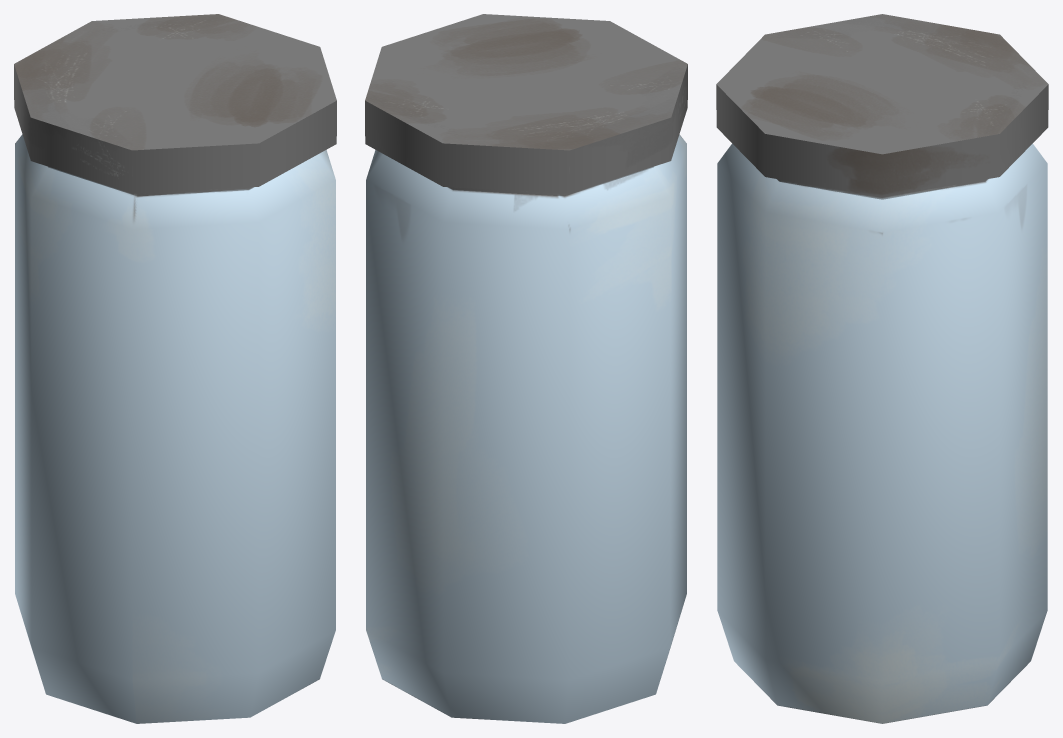
Rendered from frasco_v_grande_.fbx.
3 views of the same model, side by side, from view 1: azimuth 30°, elevation 25°; view 2: azimuth 150°, elevation 25°; view 3: azimuth 270°, elevation 25° (orthographic).
Visible parts, largest first — view 1: Frasco_Vidrio_largo_term; view 2: Frasco_Vidrio_largo_term; view 3: Frasco_Vidrio_largo_term.
Part boxes in pixels (left/top/right/bottom): Frasco_Vidrio_largo_term: left=14, top=14, right=336, bottom=723; Frasco_Vidrio_largo_term: left=365, top=14, right=687, bottom=723; Frasco_Vidrio_largo_term: left=716, top=14, right=1048, bottom=723.
Bounding box in the file's own units: 6.04 × 11.57 × 6.04.
Materials: 2 (2 with a texture image).
